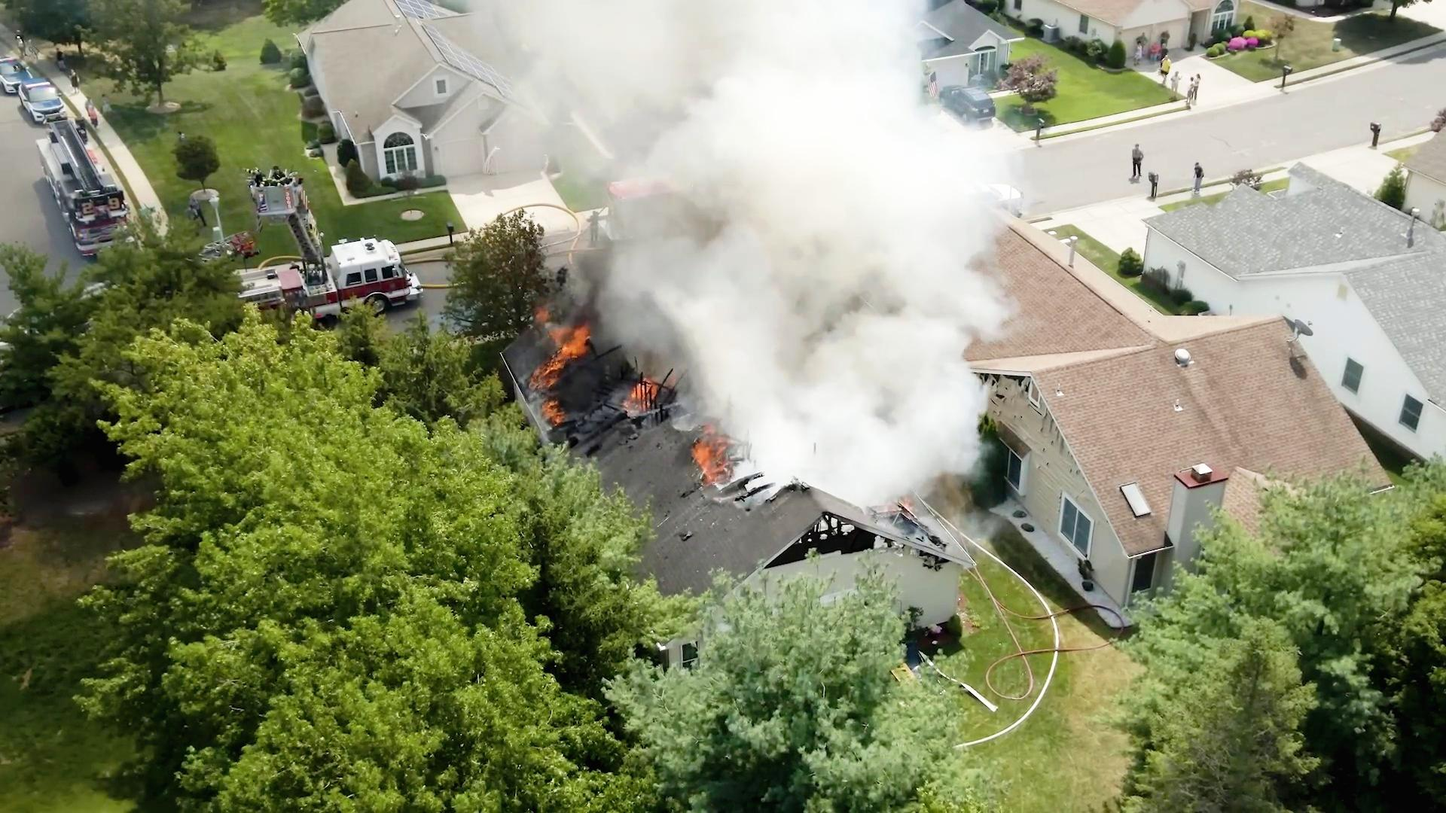smoke: (667, 53, 971, 273), (727, 211, 939, 475), (539, 0, 865, 138)
